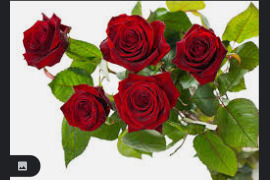RedRose: (99, 12, 170, 72), (113, 72, 180, 130), (172, 24, 225, 86), (51, 80, 110, 130), (21, 10, 71, 68)
